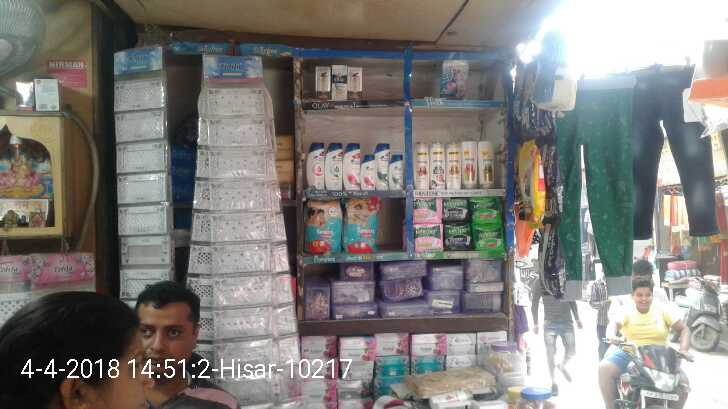venus: (439, 60, 467, 99)
